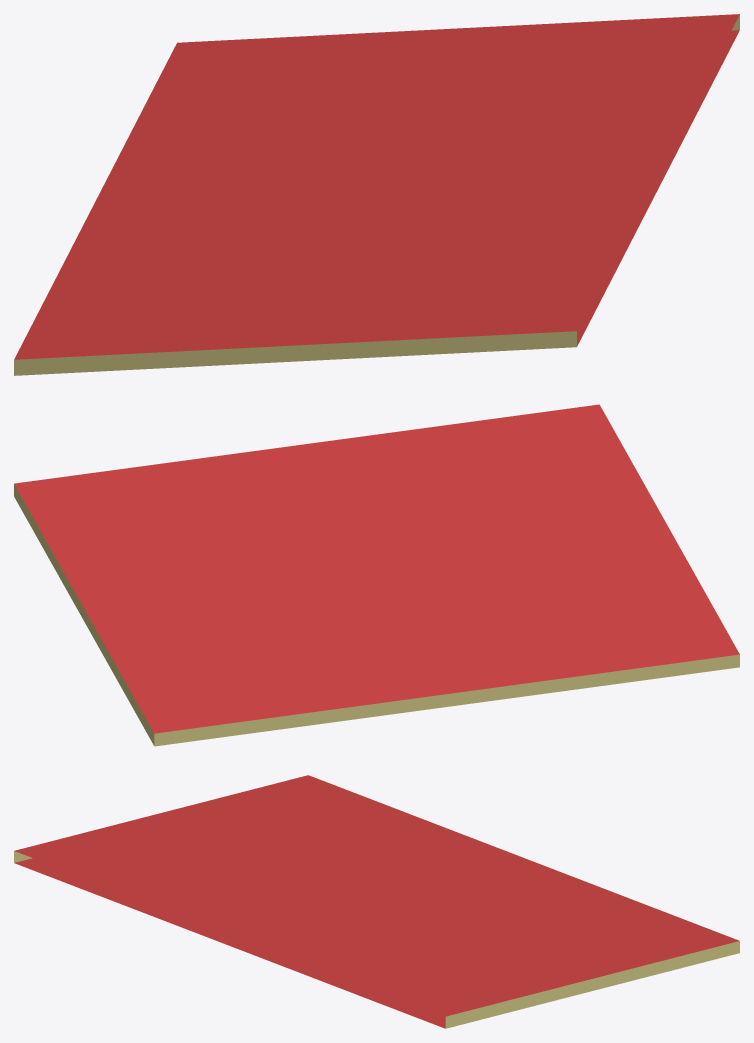
3 views of the same model, one above another, from view 1: azimuth 30°, elevation 25°; view 2: azimuth 150°, elevation 25°; view 3: azimuth 270°, elevation 25° (orthographic). The views are drawn at different scales.
Bounding box in the file's own units: 5.31 × 5.39 × 0.6.
